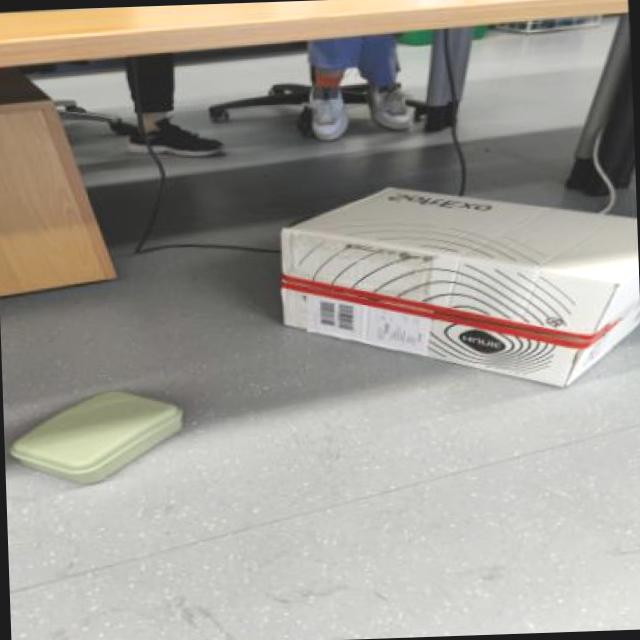box: (211, 158, 640, 401), (2, 368, 196, 502)
